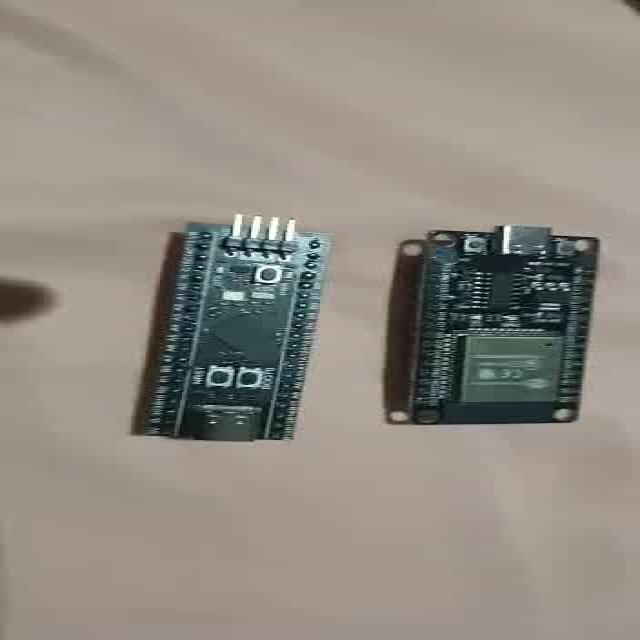ESP32: (409, 226, 599, 424)
STM32: (138, 215, 330, 442)
